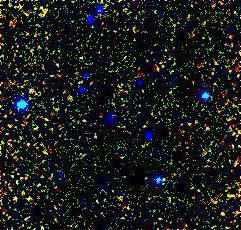star: (18, 75, 48, 105)
